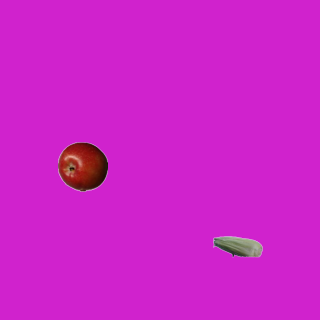Apple Braeburn: (57, 141, 107, 191)
Corn Husk: (212, 221, 262, 271)
